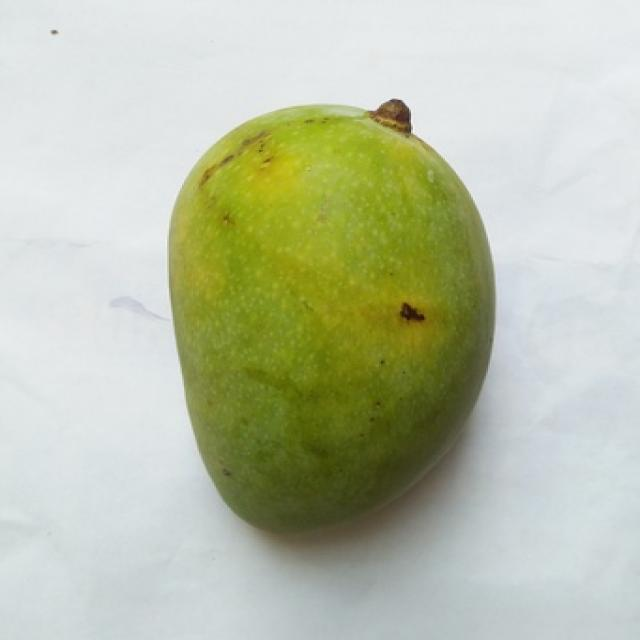Mango: (169, 105, 494, 529)
